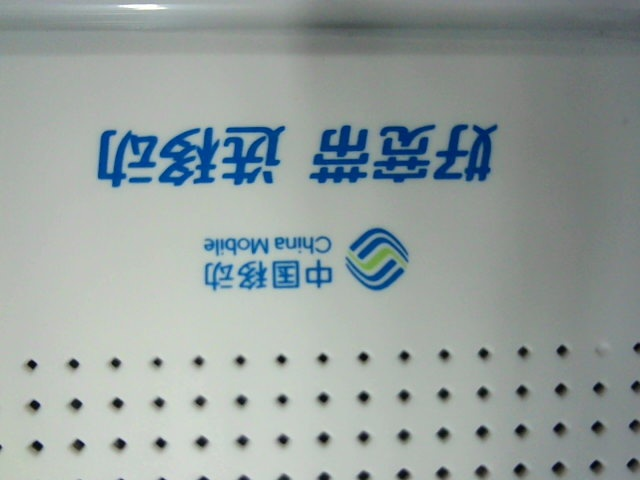AA_ChinaMoble: (90, 110, 501, 299)
